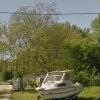Boat: (29, 65, 86, 100)
